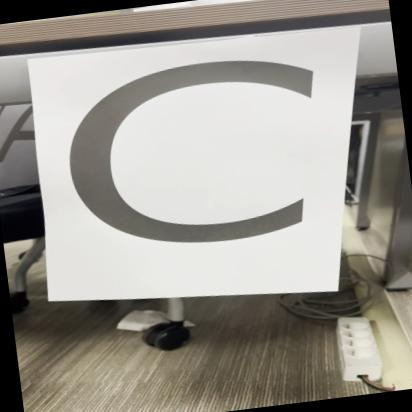seat: (34, 15, 356, 320)
